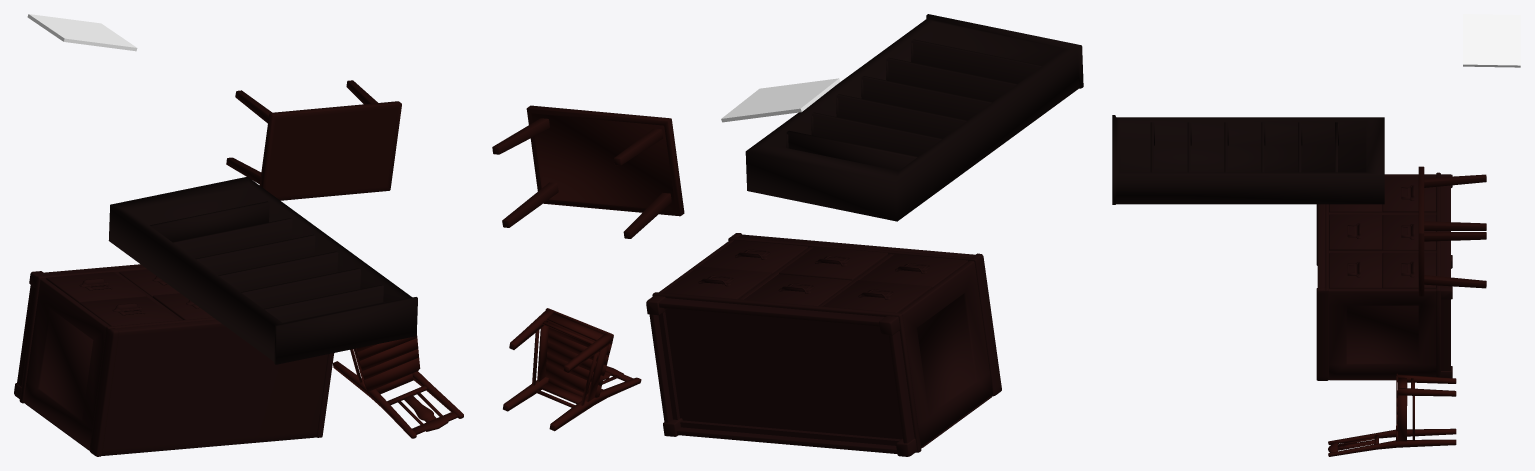
3 renders of one model, left to right at view 1: azimuth 30°, elevation 25°; view 2: azimuth 150°, elevation 25°; view 3: azimuth 270°, elevation 25°, orthographic. The views are drawn at different scales.
Visible parts, largest first — view 1: diffuse_cabinet_01, diffuse_shelf_03, diffuse_table_02, diffuse_chair_04, glass_partition_01; view 2: diffuse_cabinet_01, diffuse_shelf_03, diffuse_table_02, diffuse_chair_04, glass_partition_01; view 3: diffuse_cabinet_01, diffuse_shelf_03, diffuse_chair_04, diffuse_table_02, glass_partition_01.
Boxes of the visible parts, x1=… form: diffuse_cabinet_01: x1=14, y1=264, x2=334, y2=456; diffuse_shelf_03: x1=108, y1=176, x2=417, y2=364; diffuse_table_02: x1=226, y1=80, x2=401, y2=200; diffuse_chair_04: x1=333, y1=334, x2=463, y2=438; glass_partition_01: x1=27, y1=14, x2=137, y2=51; diffuse_cabinet_01: x1=646, y1=233, x2=1001, y2=456; diffuse_shelf_03: x1=745, y1=14, x2=1083, y2=221; diffuse_table_02: x1=492, y1=105, x2=684, y2=238; diffuse_chair_04: x1=503, y1=308, x2=641, y2=431; glass_partition_01: x1=721, y1=78, x2=840, y2=122; diffuse_cabinet_01: x1=1316, y1=172, x2=1452, y2=380; diffuse_shelf_03: x1=1112, y1=115, x2=1384, y2=204; diffuse_chair_04: x1=1328, y1=373, x2=1456, y2=456; diffuse_table_02: x1=1418, y1=166, x2=1486, y2=296; glass_partition_01: x1=1463, y1=14, x2=1520, y2=67.
Bounding box in the file's own units: 243 × 250 × 284.
